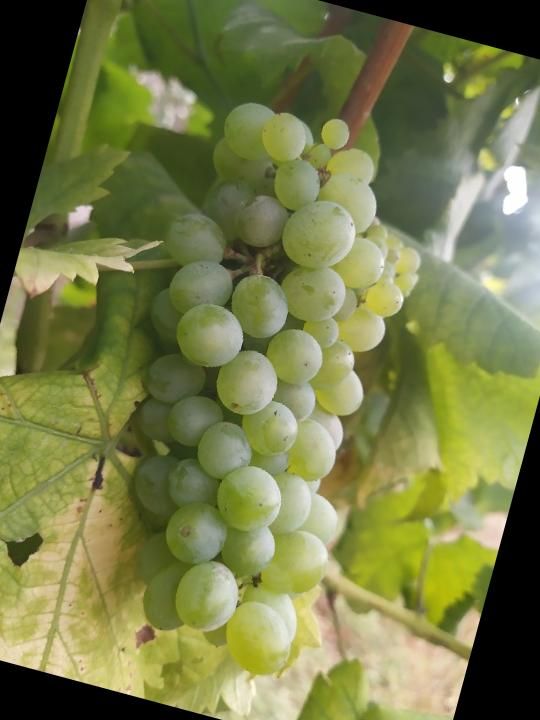grape: (56, 81, 447, 691)
